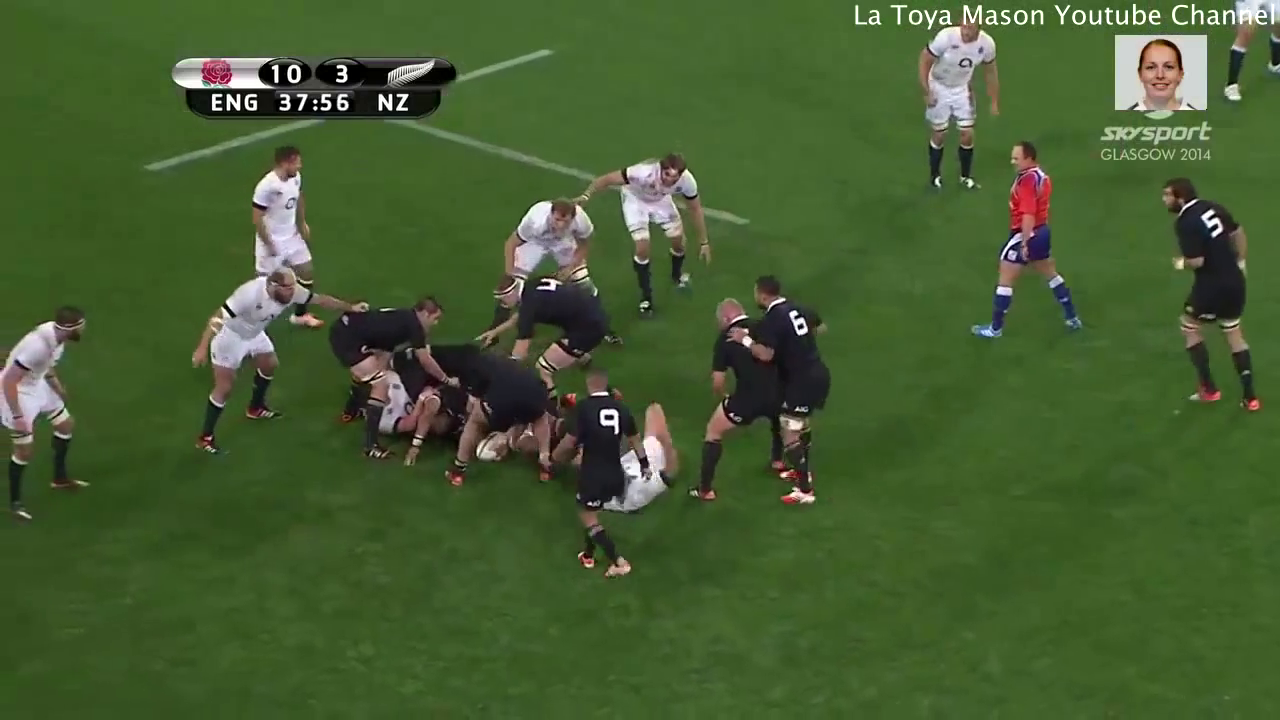ball: (461, 421, 518, 472)
player: (173, 257, 369, 457), (1154, 168, 1274, 431), (713, 268, 834, 519), (959, 136, 1092, 351), (1, 284, 110, 532), (546, 365, 661, 596), (569, 144, 718, 322), (679, 290, 795, 507), (469, 265, 644, 397), (432, 339, 564, 501), (905, 8, 1007, 200), (329, 283, 461, 428), (241, 133, 331, 340), (493, 181, 612, 296), (581, 393, 686, 522)
ruck: (339, 296, 651, 516)
